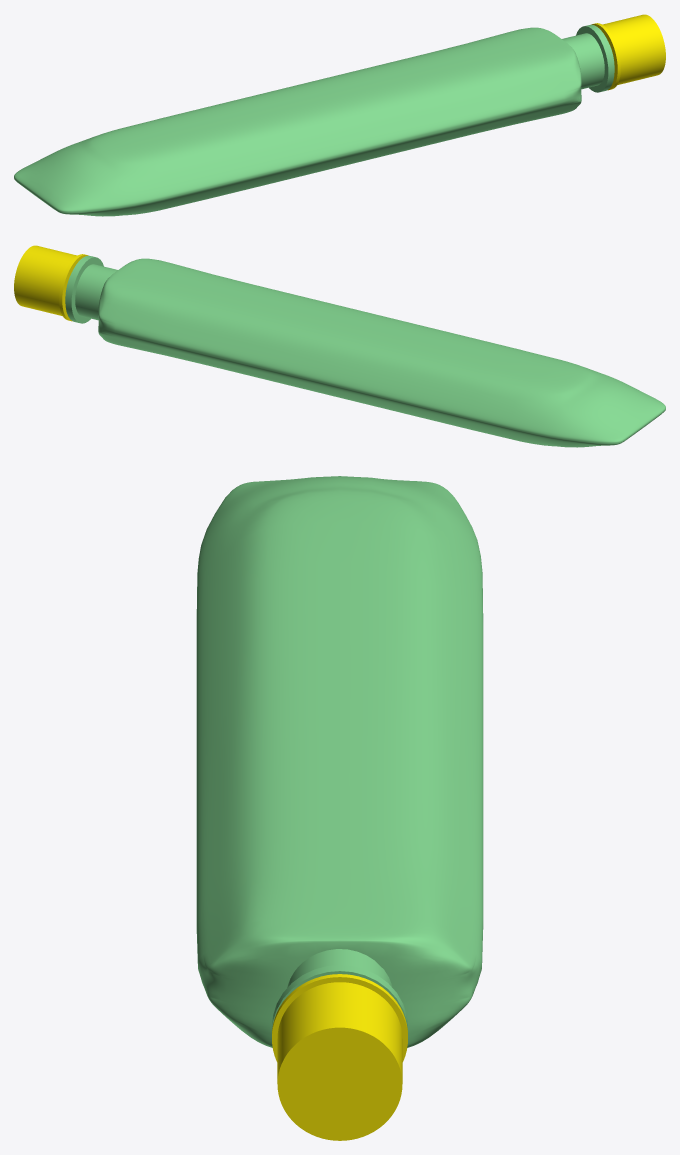
The model's file is 221_でんぷんのり.glb.
3 views of the same model, one above another, from view 1: azimuth 30°, elevation 25°; view 2: azimuth 150°, elevation 25°; view 3: azimuth 270°, elevation 25° (orthographic). The views are drawn at different scales.
Visible parts, largest first — view 1: body, キャップ; view 2: body, キャップ; view 3: body, キャップ.
Boxes of the visible parts, bbox=[...] form: body: bbox=[14, 24, 614, 216]; キャップ: bbox=[591, 14, 665, 90]; body: bbox=[65, 255, 665, 447]; キャップ: bbox=[14, 245, 88, 321]; body: bbox=[196, 476, 483, 1047]; キャップ: bbox=[272, 974, 407, 1140].
Bounding box in the file's own units: 0.198 × 0.019 × 0.04.
